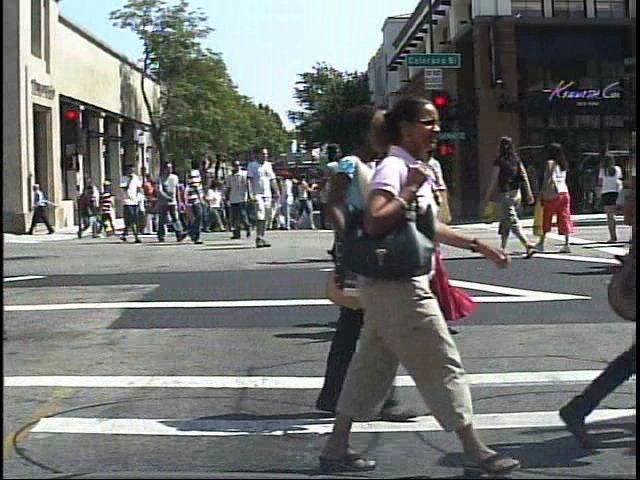person: (283, 86, 488, 480), (372, 134, 483, 340), (418, 127, 477, 339), (317, 135, 371, 267), (488, 134, 537, 262), (351, 144, 403, 263), (535, 138, 578, 259), (240, 145, 276, 252), (598, 145, 631, 249), (174, 155, 211, 247), (153, 157, 186, 247), (115, 159, 145, 245), (93, 177, 118, 241), (77, 182, 97, 232)
